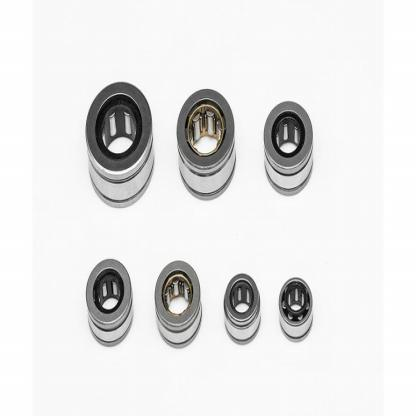FOD: (83, 80, 158, 210), (176, 86, 239, 204), (262, 95, 316, 198), (153, 254, 203, 352), (84, 256, 134, 346), (222, 272, 262, 344), (278, 274, 316, 342)
